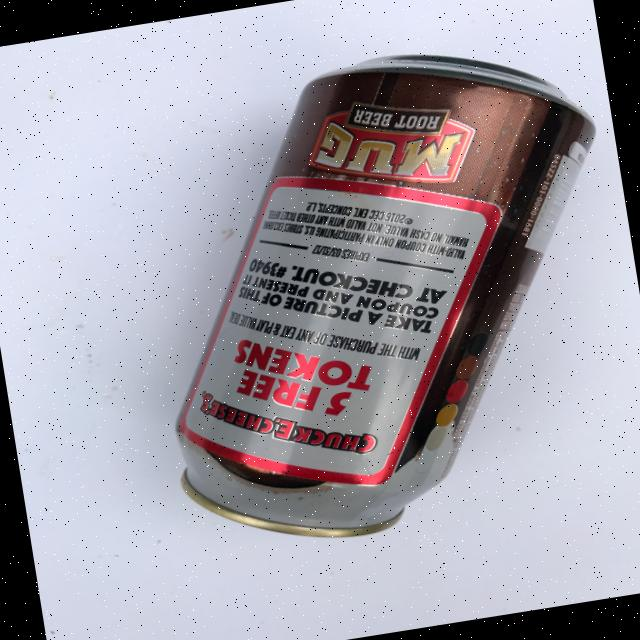metal: (118, 24, 640, 562)
